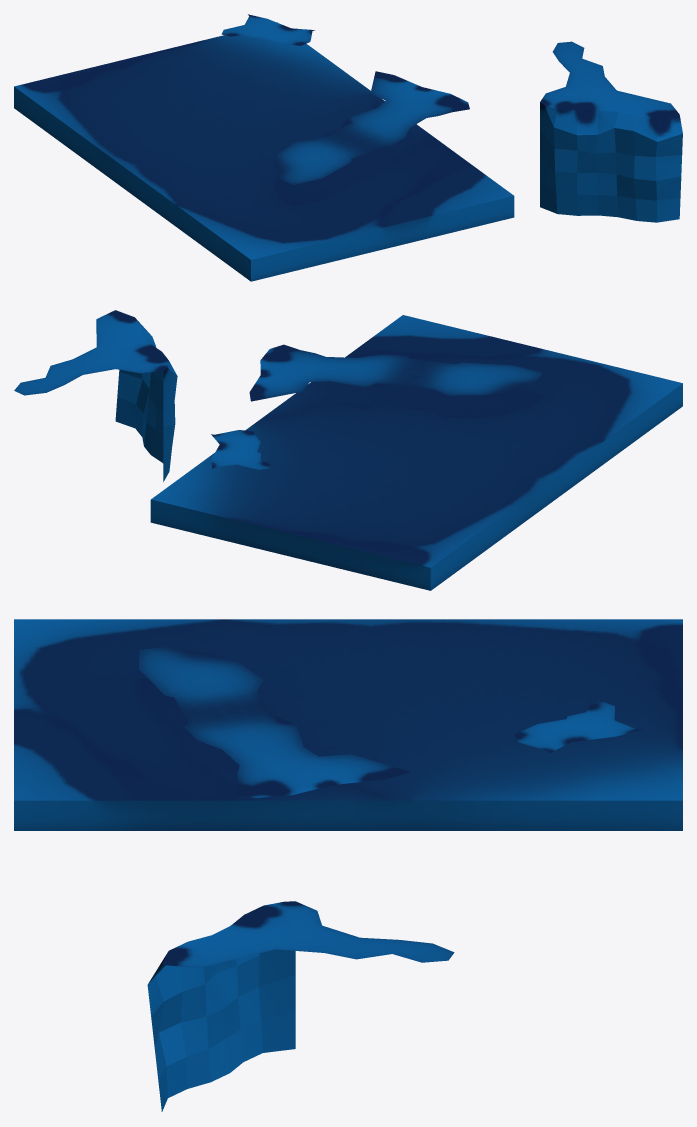
File: Water_01.FBX
3 views of the same model, one above another, from view 1: azimuth 30°, elevation 25°; view 2: azimuth 150°, elevation 25°; view 3: azimuth 270°, elevation 25° (orthographic). The views are drawn at different scales.
Parts seen in each view (by area): view 1: Water_01; view 2: Water_01; view 3: Water_01.
Boxes of the visible parts, x1,y1,x2,y2 form: Water_01: (14, 14, 682, 281); Water_01: (14, 310, 682, 590); Water_01: (14, 619, 682, 1111).
Bounding box in the file's own units: 35.1 × 9.94 × 29.68.
